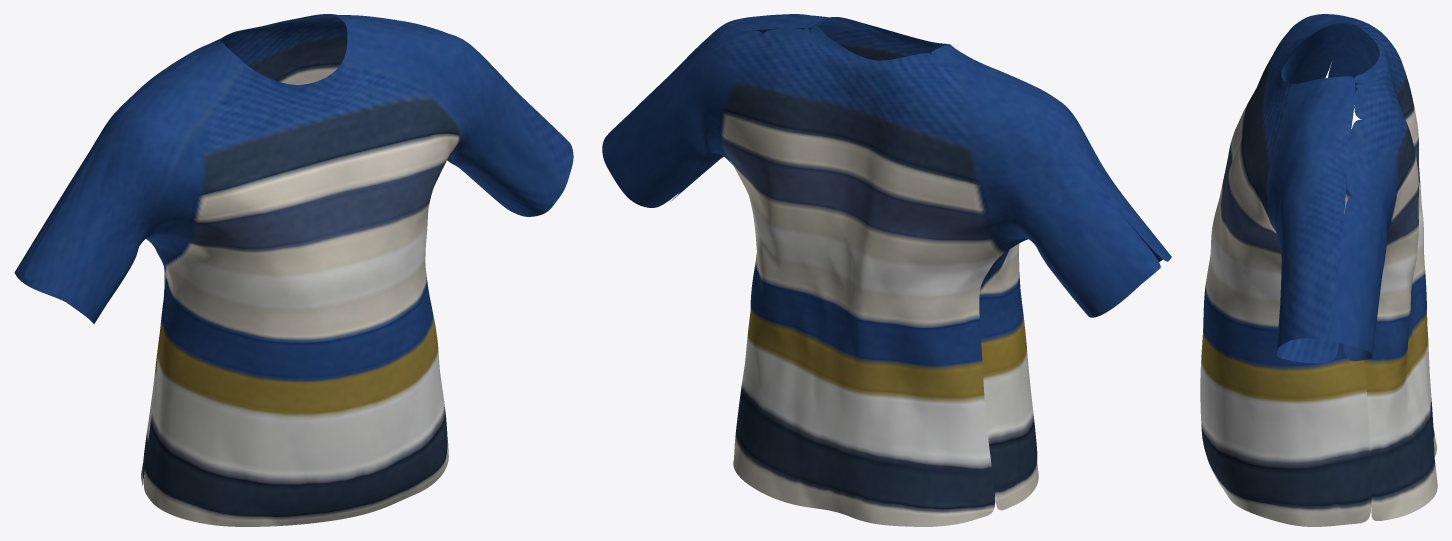
The model's file is TXL_XLM.dae.
3 views of the same model, side by side, from view 1: azimuth 30°, elevation 25°; view 2: azimuth 150°, elevation 25°; view 3: azimuth 270°, elevation 25° (orthographic). The views are drawn at different scales.
Parts seen in each view (by area): view 1: ts_xlm-tshirt02; view 2: ts_xlm-tshirt02; view 3: ts_xlm-tshirt02.
Part boxes in pixels (x1,y1,x2,y2): ts_xlm-tshirt02: [14, 14, 573, 526]; ts_xlm-tshirt02: [602, 14, 1171, 526]; ts_xlm-tshirt02: [1200, 14, 1437, 526].
Size of the model in its own units: 7.84 by 6.02 by 3.1.
